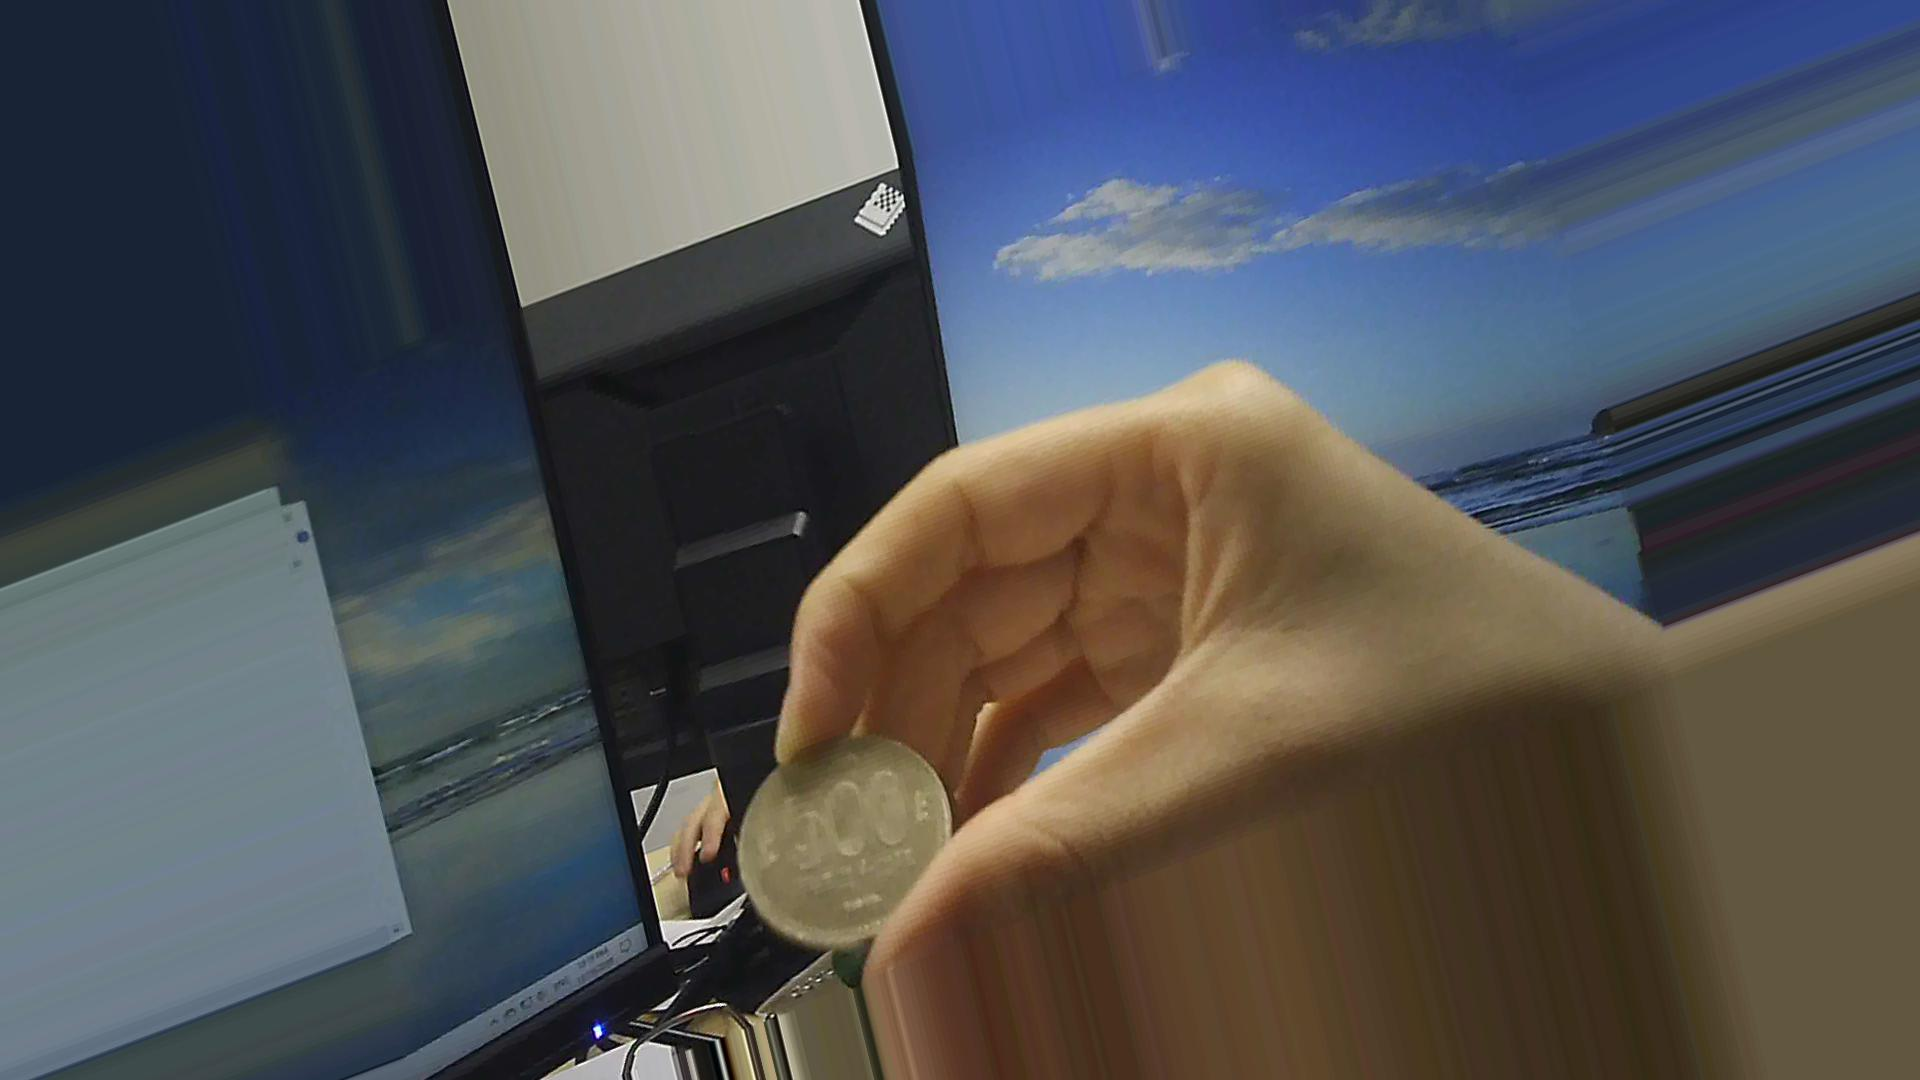500 Yen: (733, 729, 945, 953)
